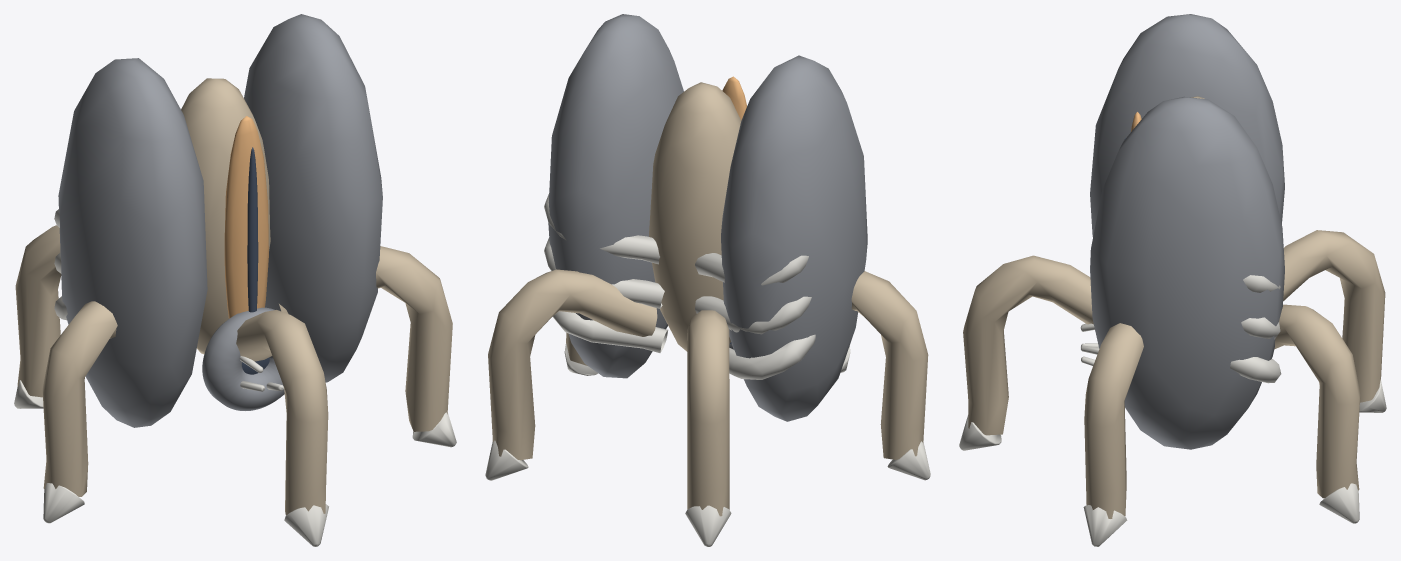
Rendered from bio_window_sac_05_far.glb.
The picture shows the model from 3 angles, left to right: view 1: azimuth 30°, elevation 25°; view 2: azimuth 150°, elevation 25°; view 3: azimuth 270°, elevation 25°; orthographic projection. The views are drawn at different scales.
Visible parts, largest first — view 1: Separated curved shell, Crooked support.003, Internal receptor sac, Crooked support.002, Crooked support.004, Single vertical photoreceptor, Crooked support.001, Raised oral lip, Long internal pupil, Contact spur.003, Contact spur.002, Contact spur.004; view 2: Separated curved shell, Internal receptor sac, Crooked support, Shell window buttress, Crooked support.001, Crooked support.002, Contact spur.001, Contact spur, Contact spur.002, Single vertical photoreceptor; view 3: Separated curved shell, Crooked support.003, Crooked support, Crooked support.001, Crooked support.004, Shell window buttress, Contact spur.004, Contact spur, Contact spur.003.
Part boxes in pixels (x1,y1,x2,y2): Separated curved shell: (58,14,382,427); Crooked support.003: (236,310,328,515); Internal receptor sac: (181,78,270,354); Crooked support.002: (42,301,117,496); Crooked support.004: (279,246,452,431); Single vertical photoreceptor: (224,116,268,318); Crooked support.001: (15,225,61,397); Raised oral lip: (202,307,284,410); Long internal pupil: (247,147,258,312); Contact spur.003: (284,504,328,546); Contact spur.002: (43,483,84,523); Contact spur.004: (412,412,456,447); Separated curved shell: (548,14,867,421); Internal receptor sac: (649,82,741,351); Crooked support: (488,269,657,460); Shell window buttress: (544,193,815,379); Crooked support.001: (687,310,729,516); Crooked support.002: (851,271,928,459); Contact spur.001: (685,505,731,546); Contact spur: (485,440,528,480); Contact spur.002: (887,441,930,480); Single vertical photoreceptor: (722,76,746,120); Separated curved shell: (1090,14,1284,449); Crooked support.003: (963,255,1093,435); Crooked support: (1274,304,1360,498); Crooked support.001: (1283,230,1385,402); Crooked support.004: (1084,323,1143,518); Shell window buttress: (1230,275,1281,383); Contact spur.004: (1083,505,1127,546); Contact spur: (1319,483,1359,523); Contact spur.003: (959,415,1001,450).
Size of the model in its own units: 2 by 2.05 by 1.96.
